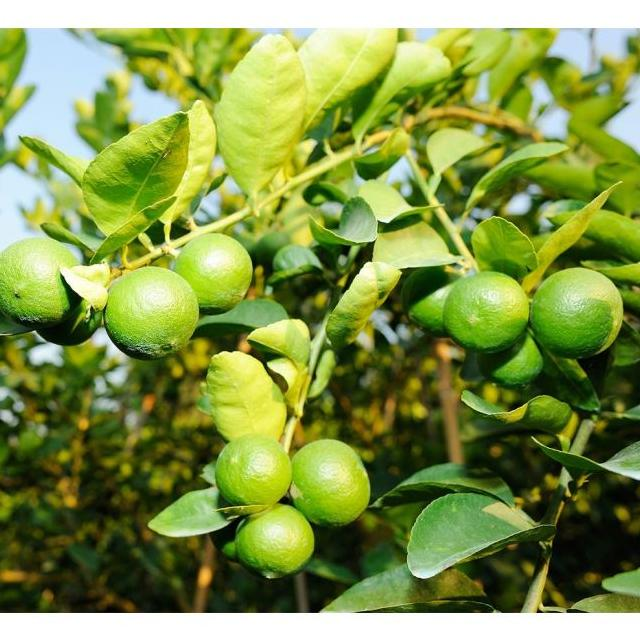lime: (0, 239, 93, 343), (529, 266, 625, 365), (104, 269, 202, 361), (287, 438, 373, 530), (225, 503, 317, 582), (168, 232, 253, 317), (444, 272, 528, 355), (214, 436, 291, 509)
